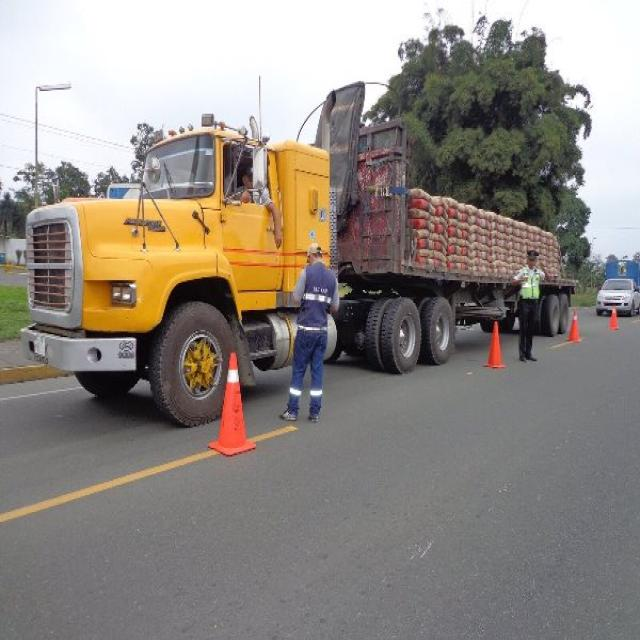TRUCK: (16, 131, 329, 427)
